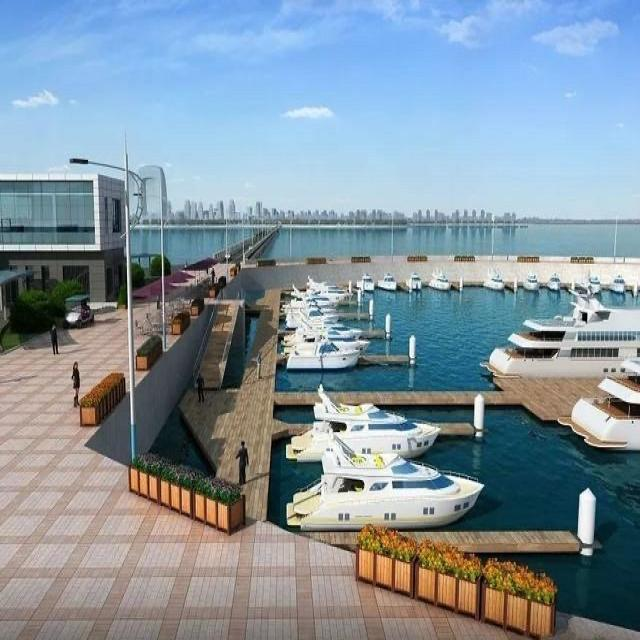houseboat: (291, 449, 482, 518), (284, 397, 432, 456), (278, 332, 387, 363)
